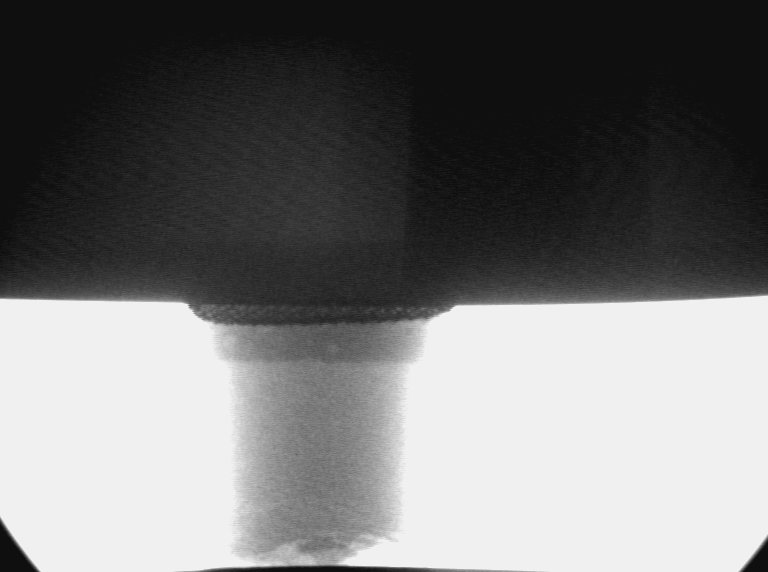defect: (324, 340, 346, 359)
